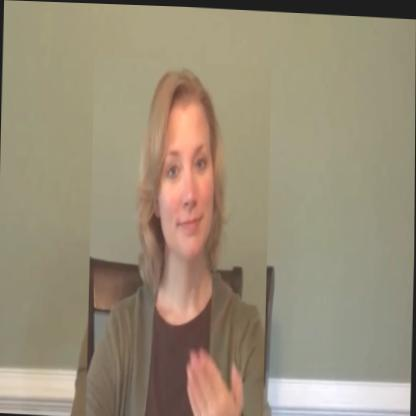ThankYou: (86, 56, 272, 416)
